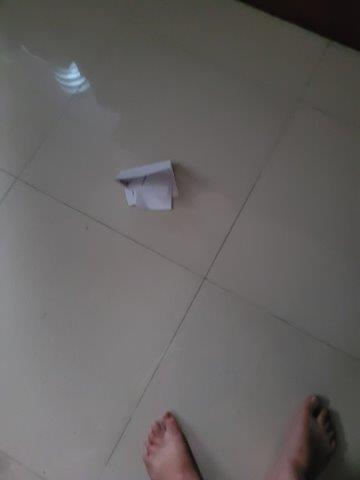kertas: (116, 158, 180, 210)
